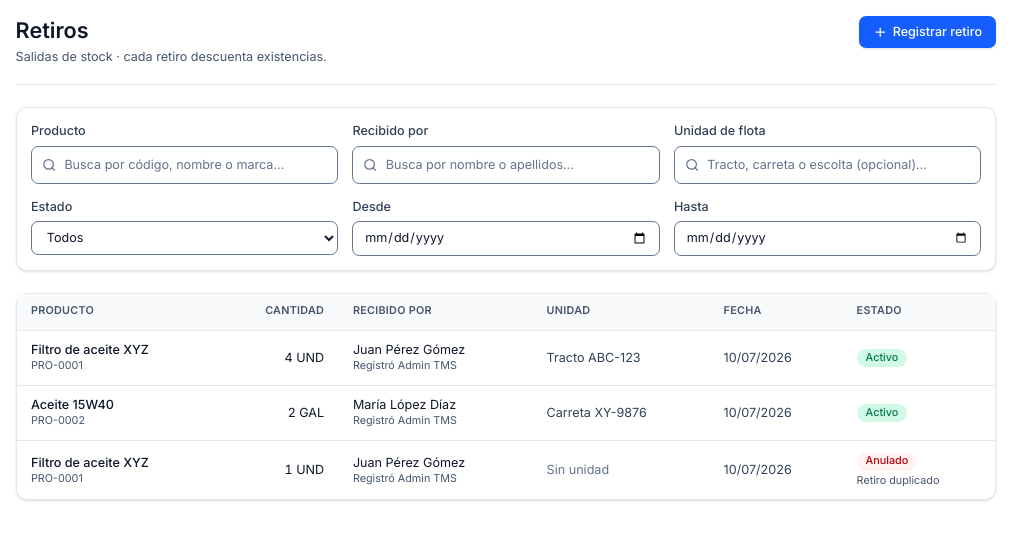
Test: WithdrawalsListPage › el filtro de producto no busca con menos de 3 caracteres y muestra la guía
Check: the text "Aceite 15W40" is shown, box x1=31 y1=397 x2=114 y2=412
Type "fi" into the dropdown labelled "Producto" at (185, 164), box x1=31 y1=146 x2=338 y2=184
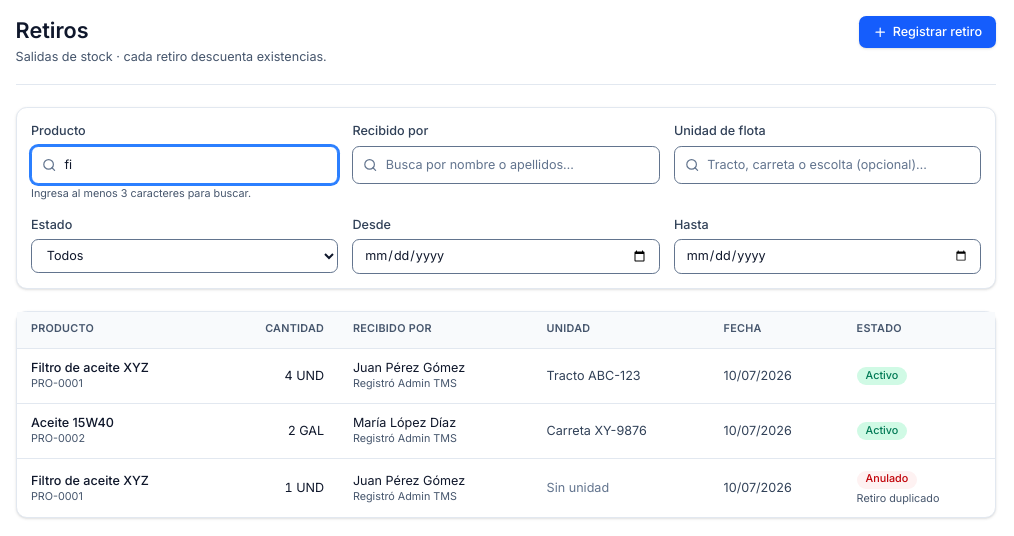
Check: the text "Ingresa al menos 3 caracteres para buscar." is shown, box x1=31 y1=187 x2=251 y2=200
